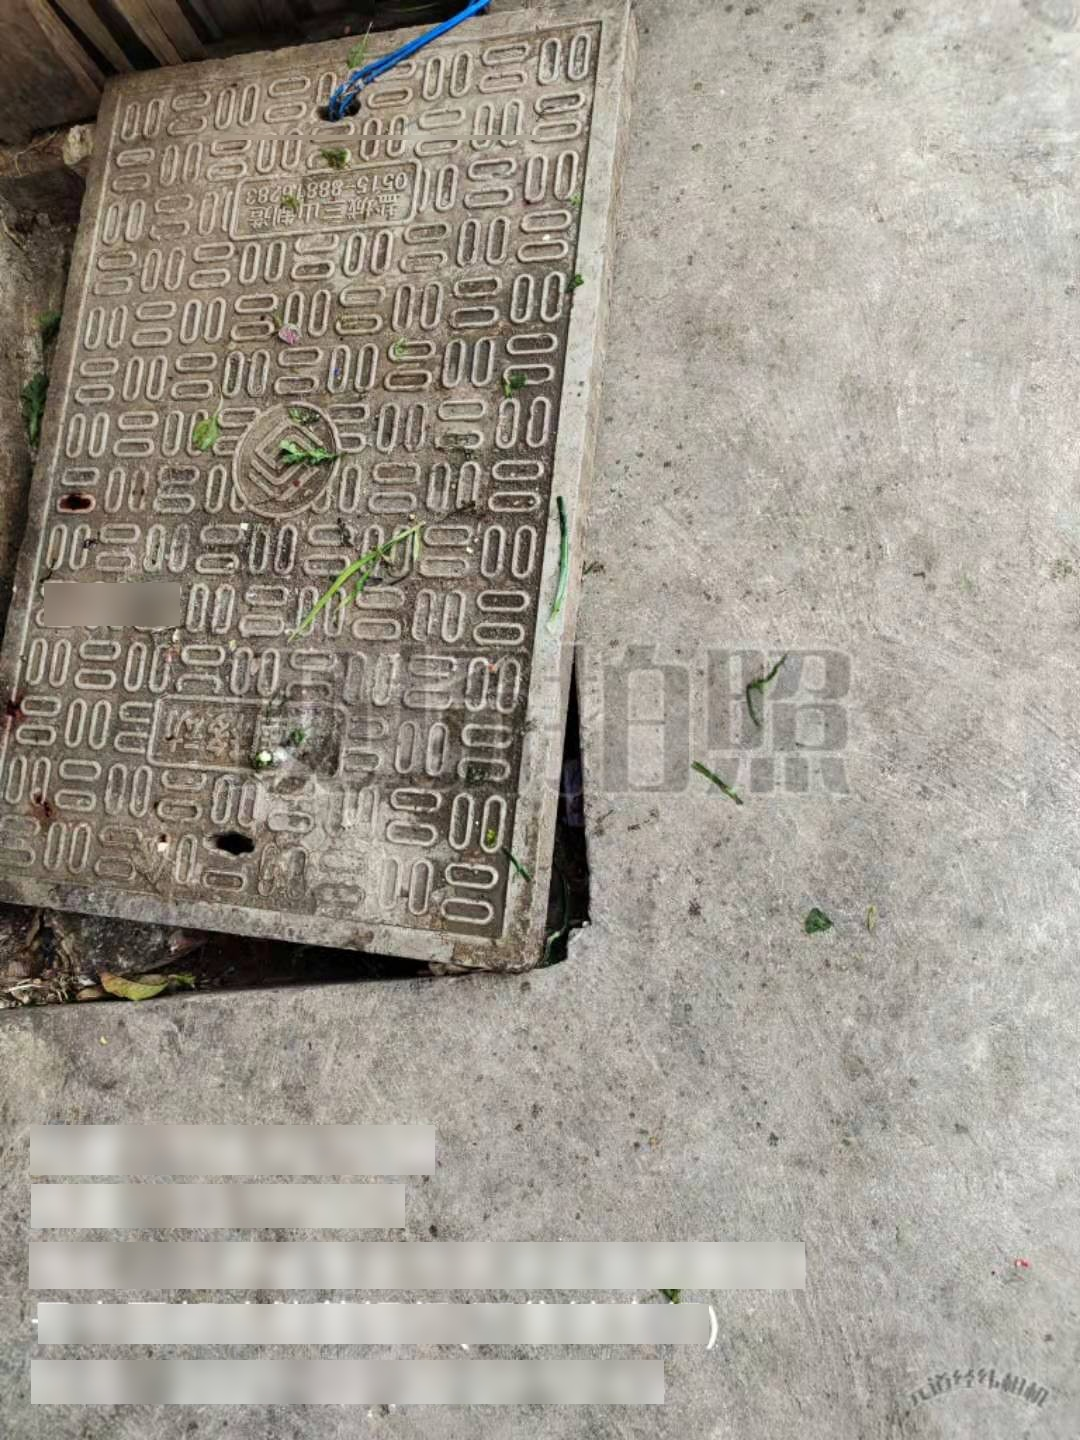uncovered: (9, 2, 641, 1002)
